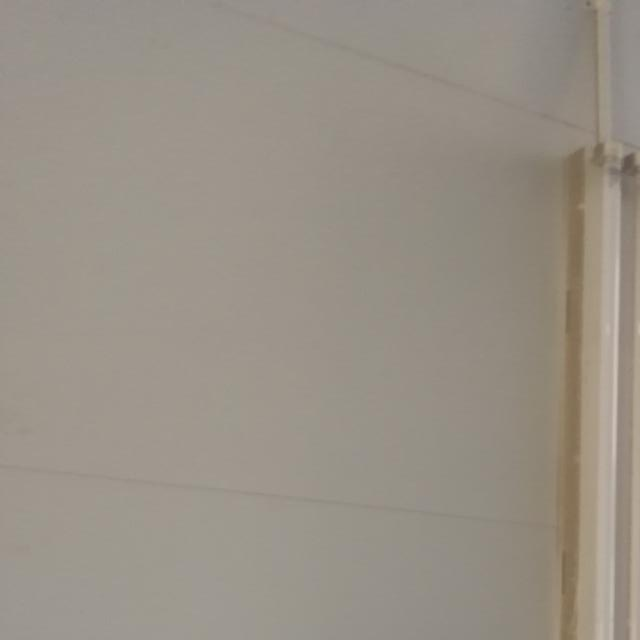fluorescent tube: (505, 103, 639, 640)
